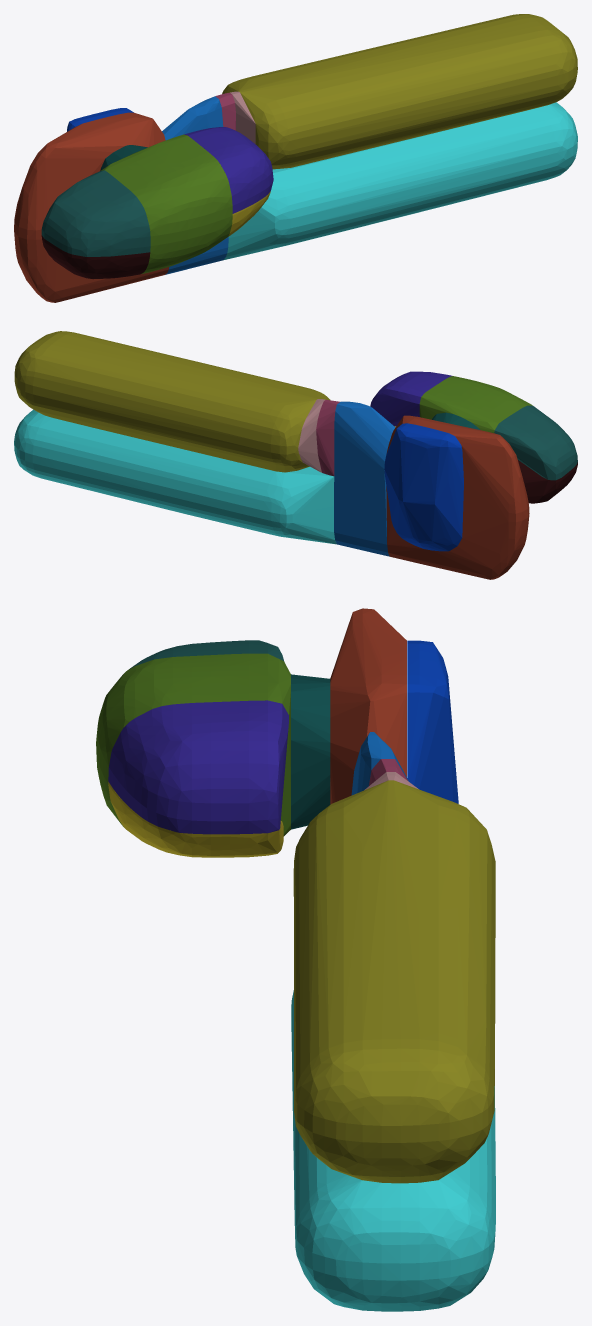
File: coacd_merged.obj
3 renders of one model, top to bottom at view 1: azimuth 30°, elevation 25°; view 2: azimuth 150°, elevation 25°; view 3: azimuth 270°, elevation 25°, orthographic. The views are drawn at different scales.
Visible parts, largest first — view 1: geometry_2, geometry_0, geometry_7, geometry_10, geometry_11, geometry_12, geometry_1, geometry_9, geometry_8, geometry_13, geometry_3, geometry_5 (+1 smaller); view 2: geometry_2, geometry_0, geometry_7, geometry_5, geometry_1, geometry_11, geometry_10, geometry_12, geometry_3, geometry_9, geometry_8, geometry_4; view 3: geometry_2, geometry_0, geometry_12, geometry_10, geometry_7, geometry_5, geometry_4, geometry_13, geometry_11, geometry_1.
Part boxes in pixels (x1,y1,x2,y2): geometry_2: (222, 14, 577, 169); geometry_0: (223, 102, 577, 260); geometry_7: (14, 112, 169, 302); geometry_10: (101, 134, 232, 273); geometry_11: (41, 170, 150, 256); geometry_12: (184, 127, 273, 213); geometry_1: (162, 96, 228, 274); geometry_9: (41, 235, 150, 279); geometry_8: (230, 91, 255, 143); geometry_13: (228, 191, 270, 236); geometry_3: (215, 92, 235, 130); geometry_5: (67, 108, 133, 131); geometry_2: (14, 331, 330, 472); geometry_0: (14, 409, 336, 544); geometry_7: (386, 415, 529, 579); geometry_5: (384, 423, 463, 551); geometry_1: (334, 401, 395, 556); geometry_11: (494, 405, 577, 480); geometry_10: (419, 376, 532, 433); geometry_12: (370, 371, 452, 426); geometry_3: (316, 399, 339, 476); geometry_9: (518, 460, 577, 503); geometry_8: (298, 399, 325, 472); geometry_4: (432, 412, 479, 429); geometry_2: (293, 780, 495, 1183); geometry_0: (291, 990, 495, 1311); geometry_12: (108, 700, 288, 834); geometry_10: (96, 653, 290, 836); geometry_7: (330, 608, 406, 804); geometry_5: (407, 640, 458, 803); geometry_4: (291, 674, 330, 829); geometry_13: (108, 782, 283, 857); geometry_11: (122, 640, 284, 675); geometry_1: (351, 732, 408, 795).
Size of the model in its own units: 0.1929 by 0.0534 by 0.0668.
